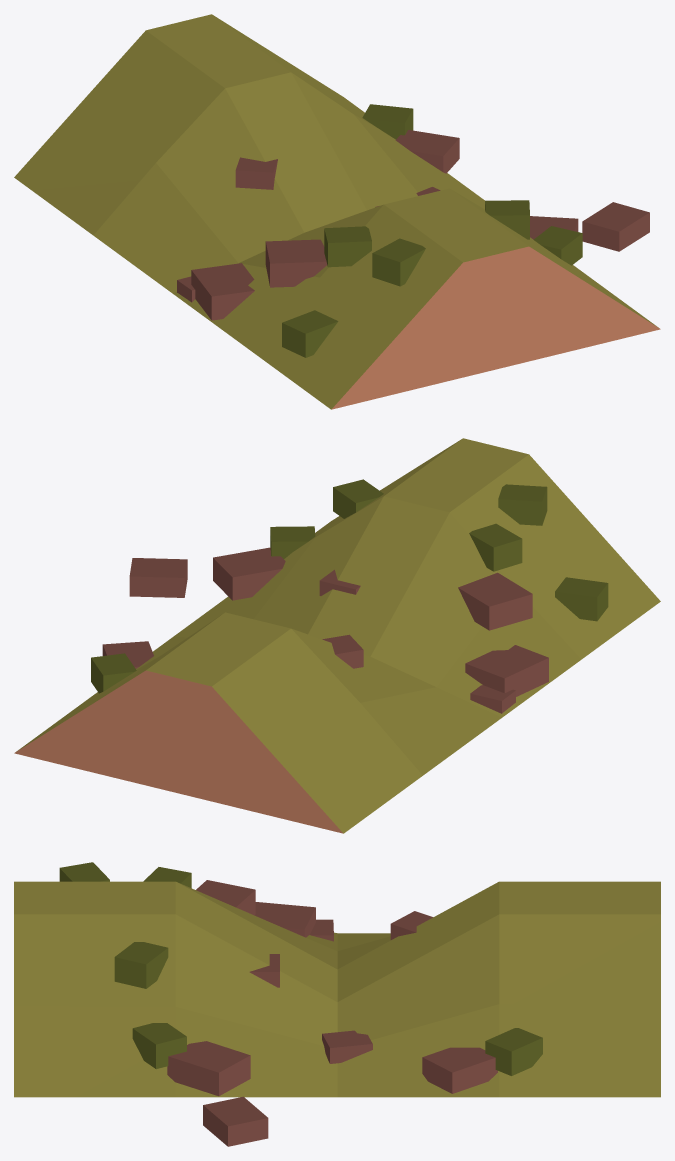
The model's file is SM_TaludDeposito_v4_Reventado_LOD1.fbx.
3 renders of one model, top to bottom at view 1: azimuth 30°, elevation 25°; view 2: azimuth 150°, elevation 25°; view 3: azimuth 270°, elevation 25°, orthographic.
Visible parts, largest first — view 1: SM_bloques.talud_deposito_v4_LOD1; view 2: SM_bloques.talud_deposito_v4_LOD1; view 3: SM_bloques.talud_deposito_v4_LOD1.
Part boxes in pixels (<box>): SM_bloques.talud_deposito_v4_LOD1: <box>14,14,660,409</box>; SM_bloques.talud_deposito_v4_LOD1: <box>14,438,660,833</box>; SM_bloques.talud_deposito_v4_LOD1: <box>14,862,660,1146</box>.
Bounding box in the file's own units: 7.78 × 2.05 × 10.
